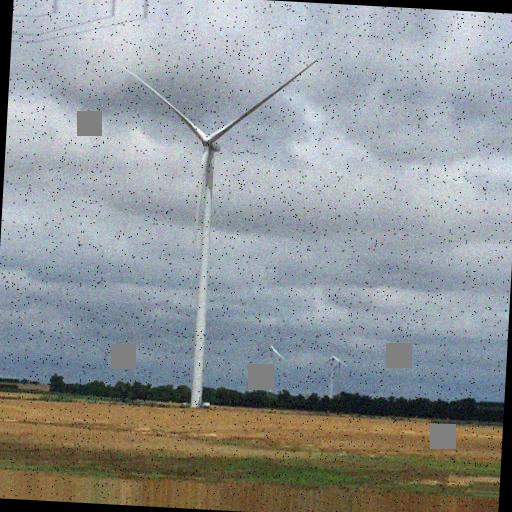wind turbine: (119, 58, 320, 406)
